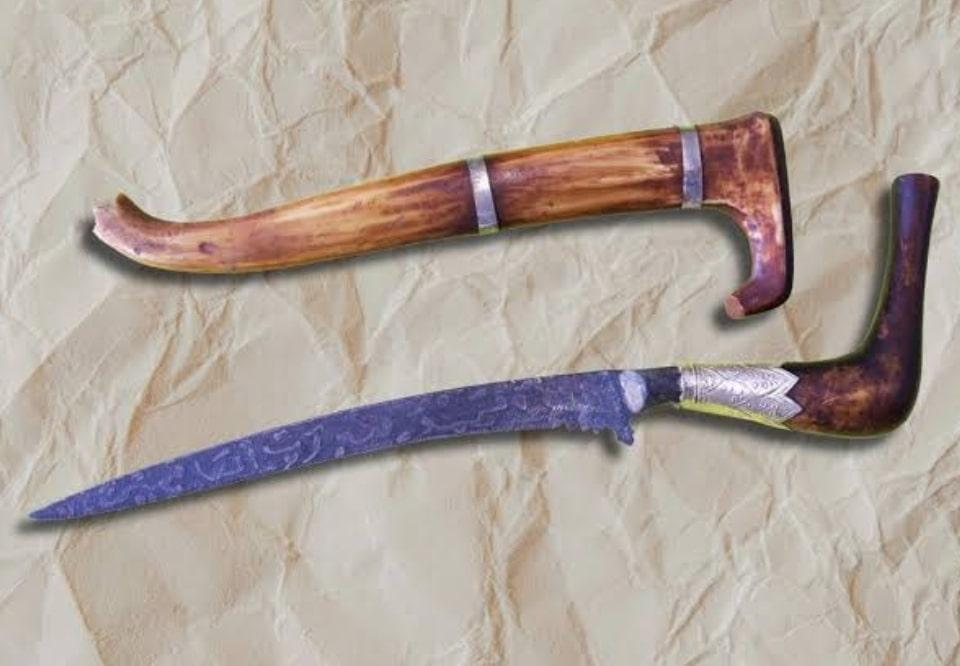facao: (30, 366, 800, 521)
